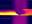Hotspot: (0, 11, 18, 15)
